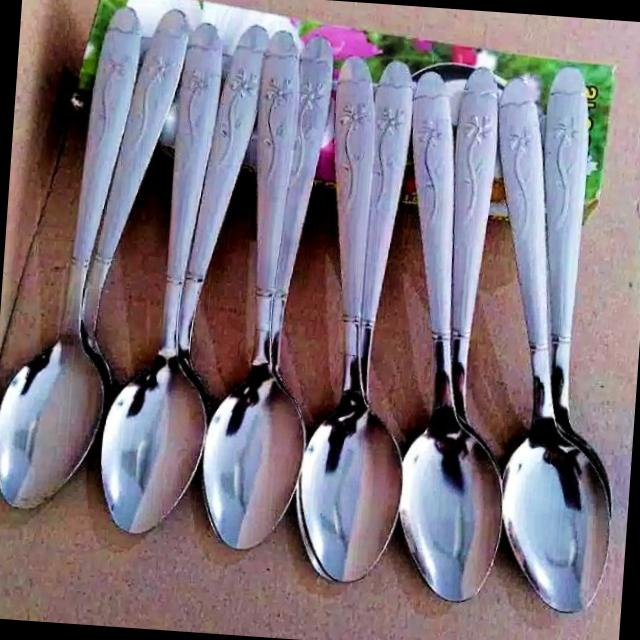spoon: (0, 6, 187, 529)
